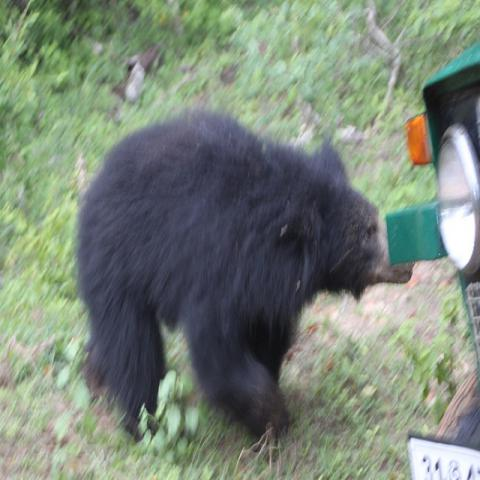truck: (385, 40, 479, 475)
